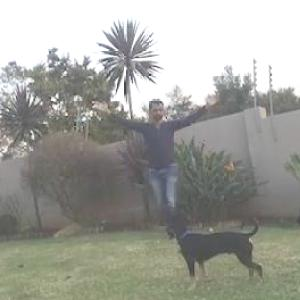takeoff: (86, 94, 217, 231)
